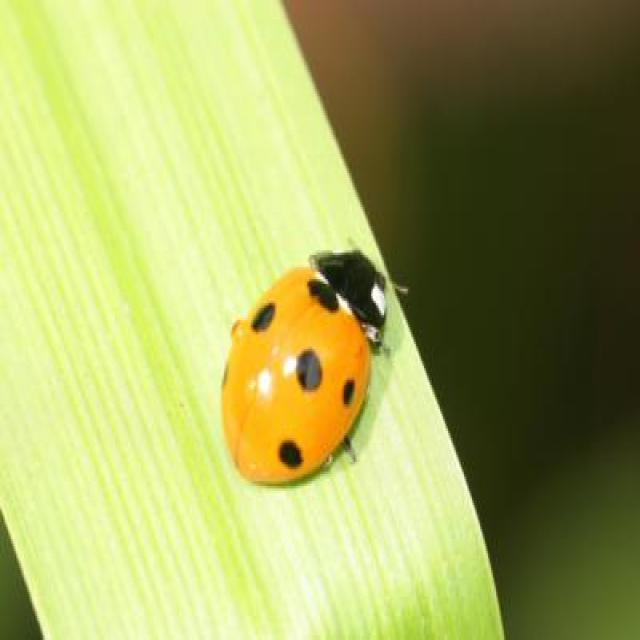antennae: (383, 262, 412, 302)
body: (221, 248, 387, 484)
insect: (220, 231, 410, 496)
legs: (332, 426, 362, 471)
wings: (222, 271, 369, 482)
